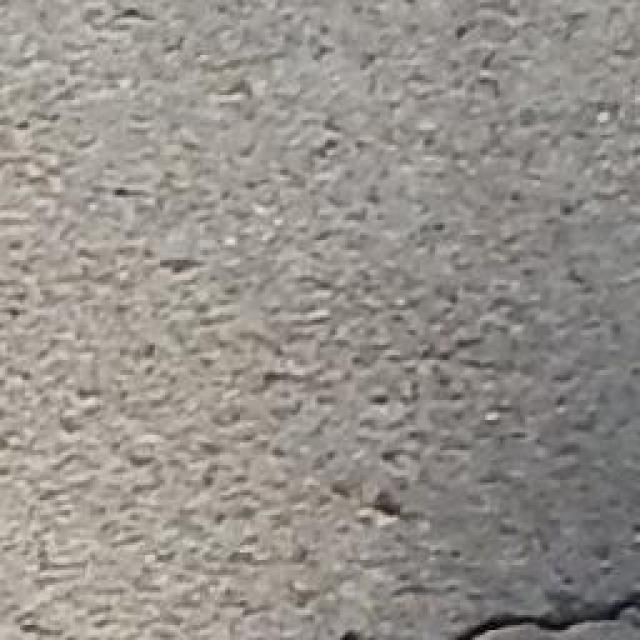concrete-crack: (452, 592, 640, 640)
